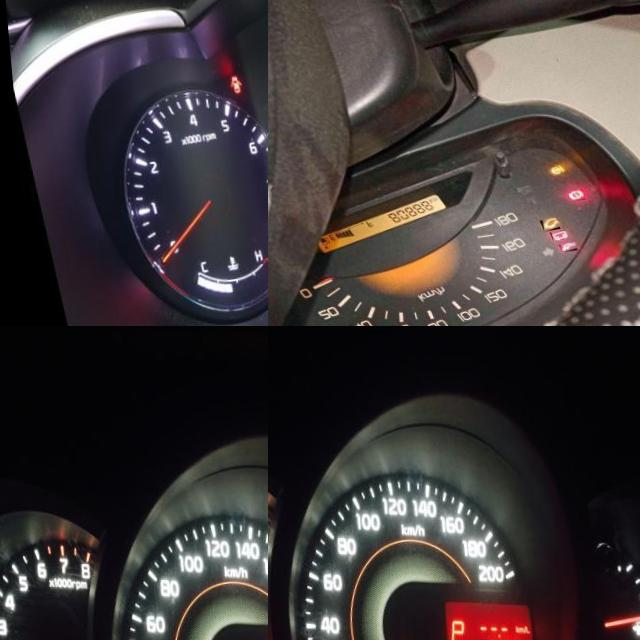Doors: (221, 72, 236, 91)
